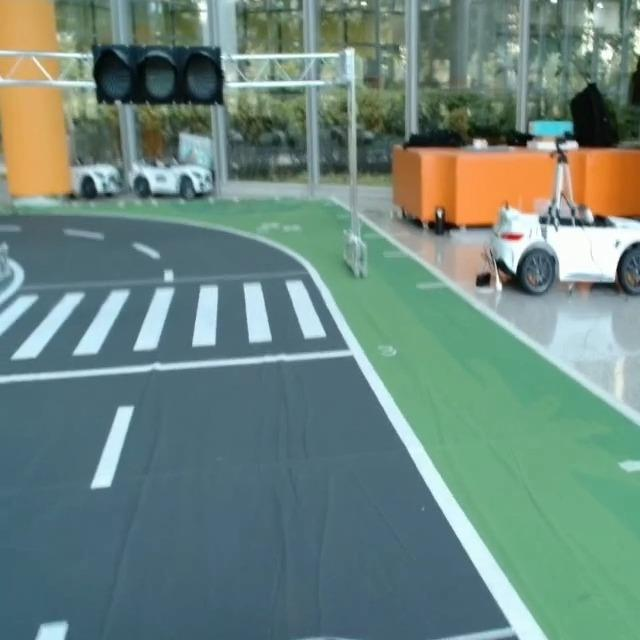traffic-light: (91, 43, 231, 107)
